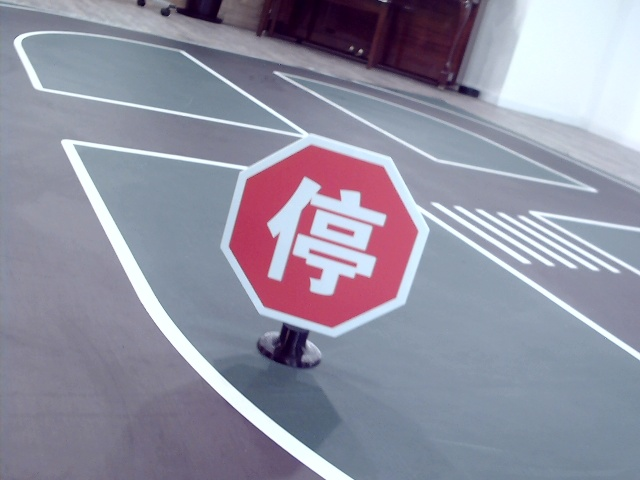stop: (260, 176, 376, 293)
